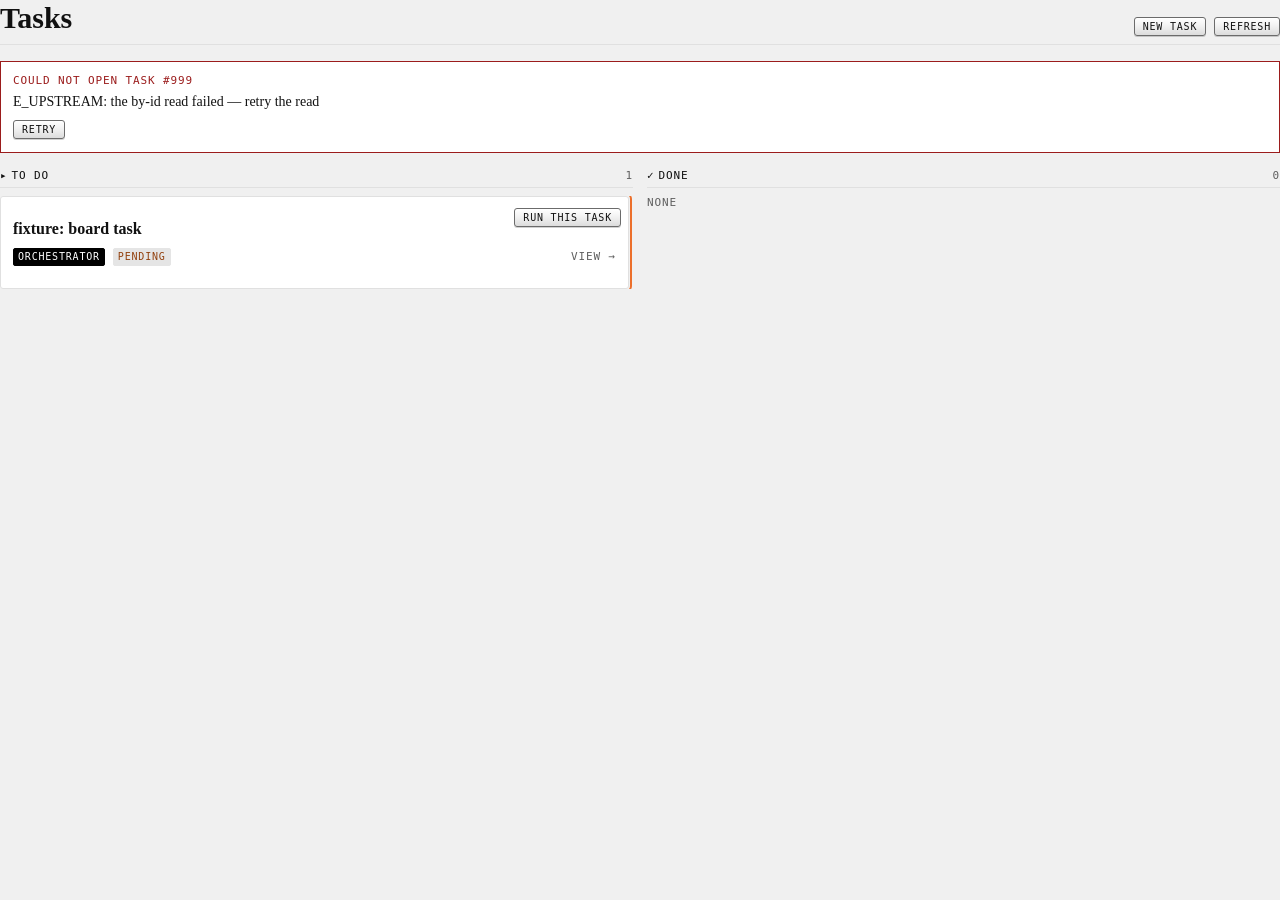
Test: T2.1 — deep-linked task retry › a failed deep-linked task offers Retry and refetches
Expected: the message with test id "tasks-deeplink-miss" shows "Could not open task #999", 13,74 -> 193,87
Expected: the message with test id "tasks-deeplink-miss" shows "the by-id read failed", 13,94 -> 319,109
Click the button with test id "task-deep-link-retry". click: (39, 130)
box: 13,120 -> 65,139
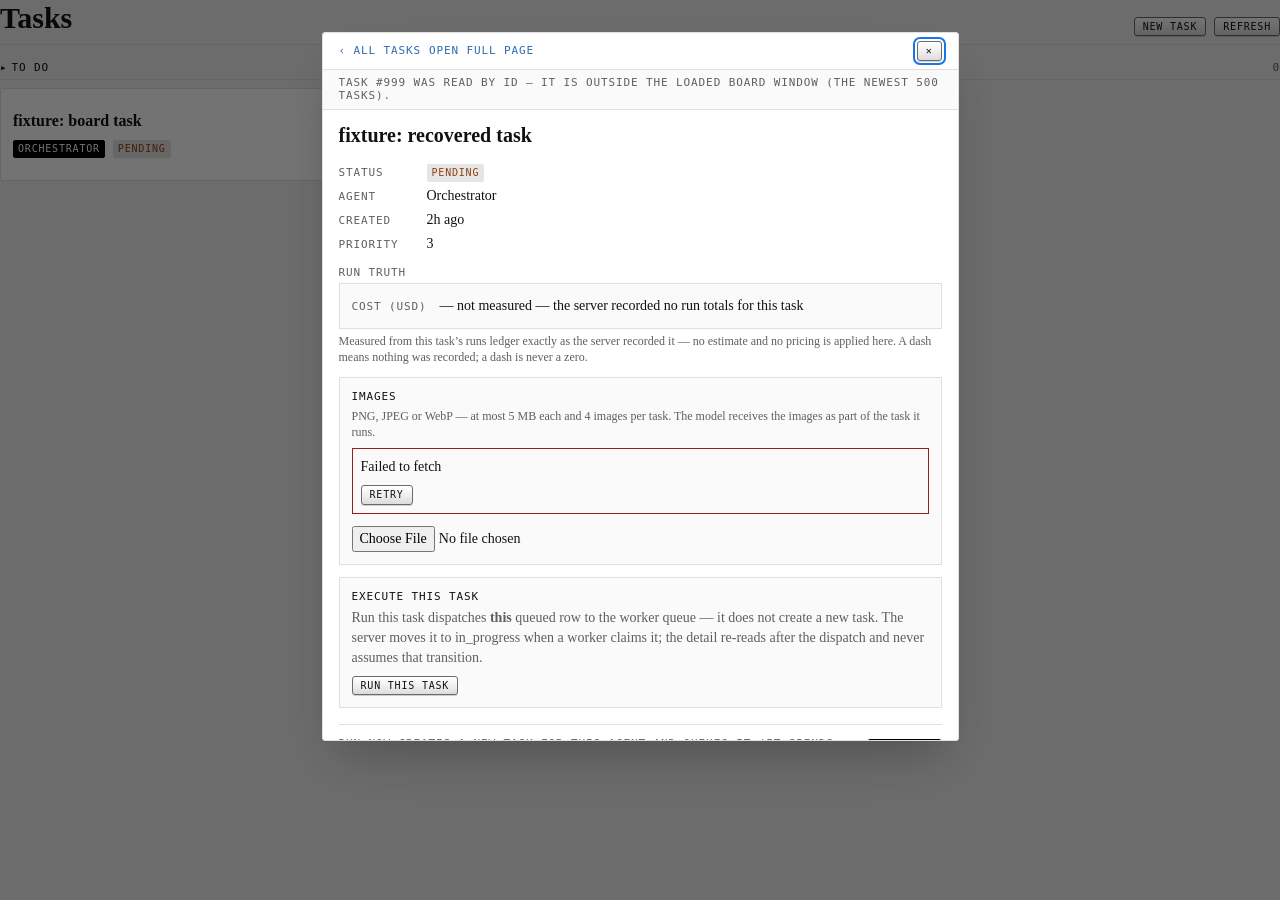
Now the dialog is shown, box 322,32 -> 958,741
Now the heading "fixture: recovered task" is shown, box 338,124 -> 532,146
Now the message with test id "tasks-deeplink-miss" is gone
